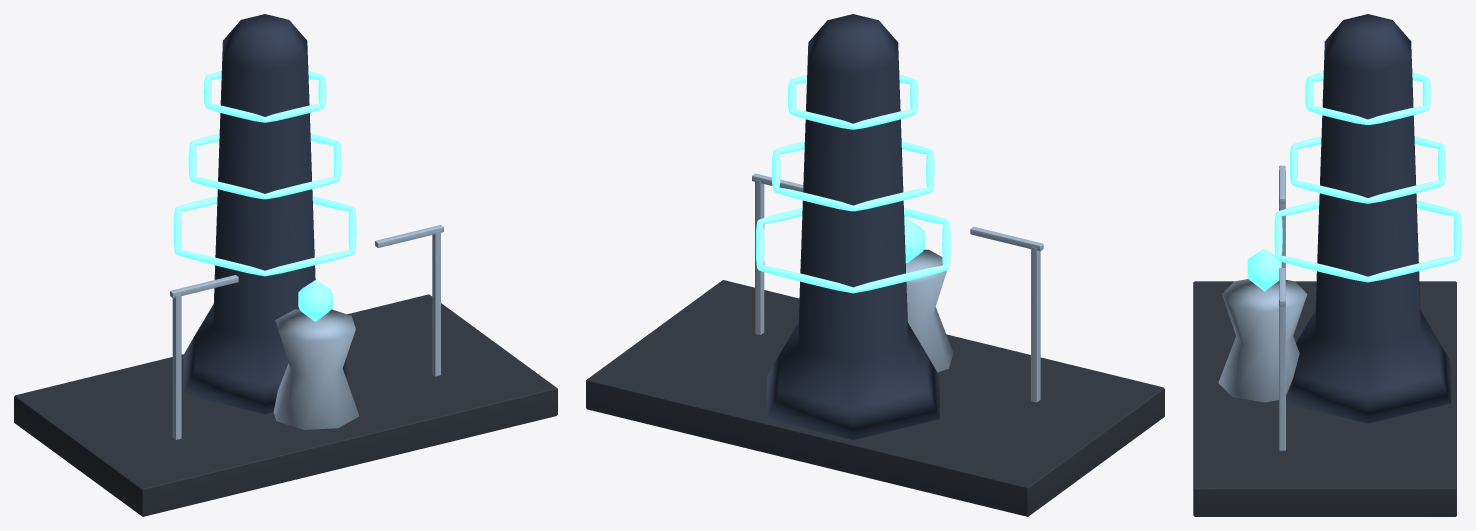
The model's file is webtoon-prop-hunter-awakening-rank-kiosk-v31.glb.
3 renders of one model, left to right at view 1: azimuth 30°, elevation 25°; view 2: azimuth 150°, elevation 25°; view 3: azimuth 270°, elevation 25°, orthographic. The views are drawn at different scales.
Parts seen in each view (by area): view 1: PropV31_V31Prop3_HunterKiosk_DatumDeck, PropV31_V31Prop3_HunterKiosk_MainChassis, PropV31_V31Prop3_HunterKiosk_HardwareTrim, PropV31_V31Prop3_HunterKiosk_NarrativeClue; view 2: PropV31_V31Prop3_HunterKiosk_DatumDeck, PropV31_V31Prop3_HunterKiosk_MainChassis, PropV31_V31Prop3_HunterKiosk_NarrativeClue, PropV31_V31Prop3_HunterKiosk_HardwareTrim; view 3: PropV31_V31Prop3_HunterKiosk_MainChassis, PropV31_V31Prop3_HunterKiosk_DatumDeck, PropV31_V31Prop3_HunterKiosk_HardwareTrim, PropV31_V31Prop3_HunterKiosk_NarrativeClue.
Part boxes in pixels (box(x1,y1,x2,y2)): PropV31_V31Prop3_HunterKiosk_DatumDeck: box(14, 294, 557, 516); PropV31_V31Prop3_HunterKiosk_MainChassis: box(183, 14, 346, 414); PropV31_V31Prop3_HunterKiosk_HardwareTrim: box(170, 225, 443, 439); PropV31_V31Prop3_HunterKiosk_NarrativeClue: box(173, 71, 356, 321); PropV31_V31Prop3_HunterKiosk_DatumDeck: box(586, 280, 1164, 516); PropV31_V31Prop3_HunterKiosk_MainChassis: box(766, 14, 939, 440); PropV31_V31Prop3_HunterKiosk_NarrativeClue: box(756, 74, 950, 293); PropV31_V31Prop3_HunterKiosk_HardwareTrim: box(752, 173, 1043, 402); PropV31_V31Prop3_HunterKiosk_MainChassis: box(1286, 14, 1451, 423); PropV31_V31Prop3_HunterKiosk_DatumDeck: box(1193, 281, 1456, 516); PropV31_V31Prop3_HunterKiosk_HardwareTrim: box(1218, 165, 1307, 450); PropV31_V31Prop3_HunterKiosk_NarrativeClue: box(1247, 72, 1461, 291).
Size of the model in its own units: 2.76 by 2.4 by 1.51.
